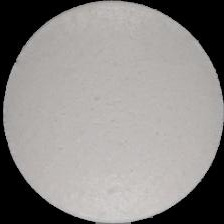68151-1320: (0, 0, 224, 224)
